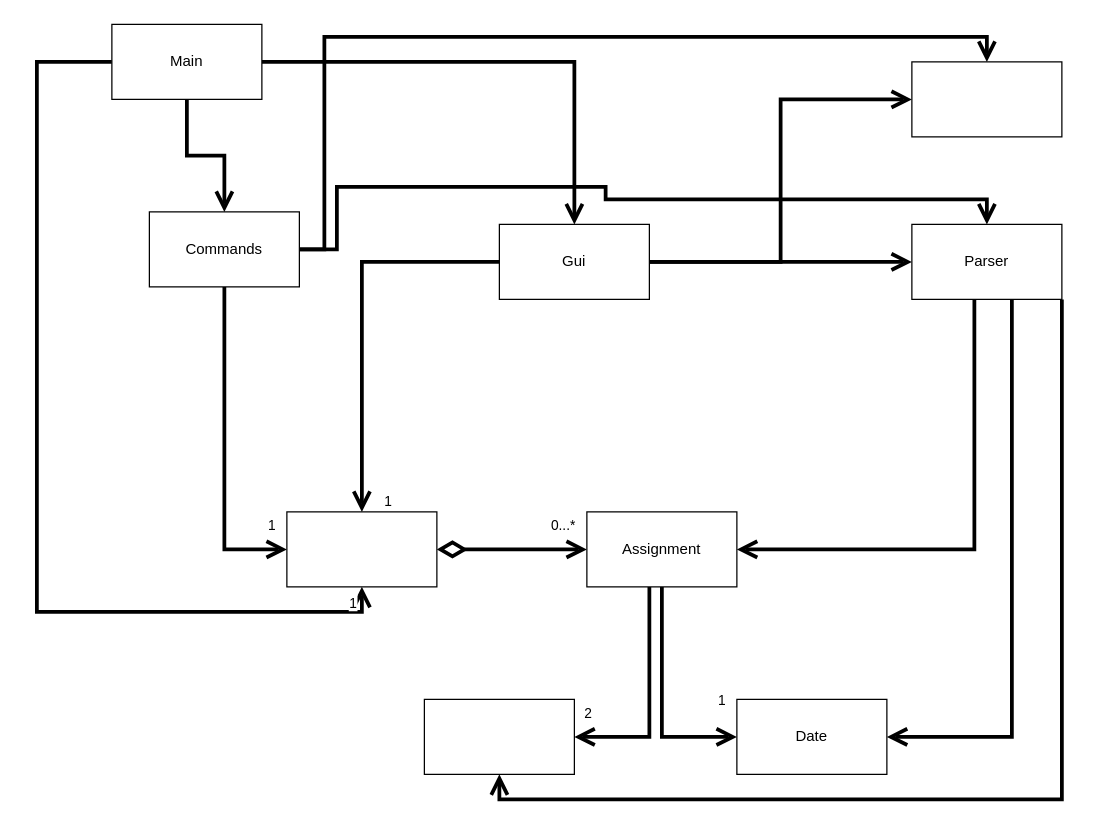
This 1100x838 diagram has some shape labels left out. The centre of each missing label's shape, as x and y in pixels:
"AssignmentList" belongs at point (361, 549).
"Filehandler" belongs at point (986, 99).
"Time" belongs at point (498, 736).
